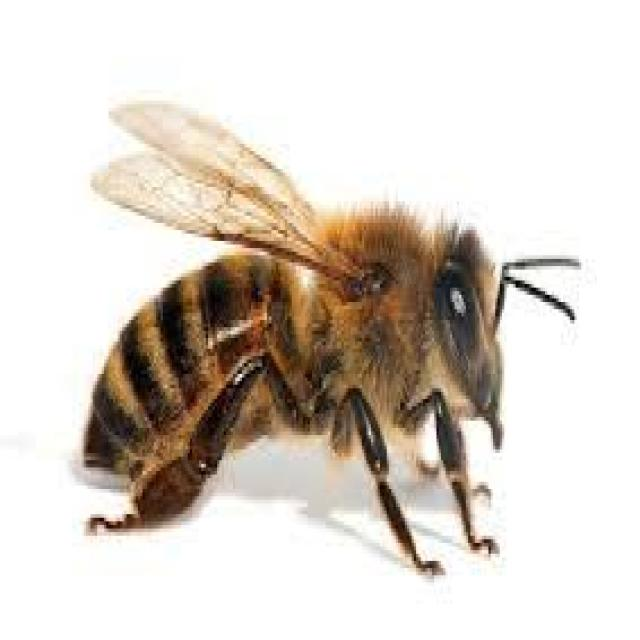Bees: (82, 93, 580, 578)
